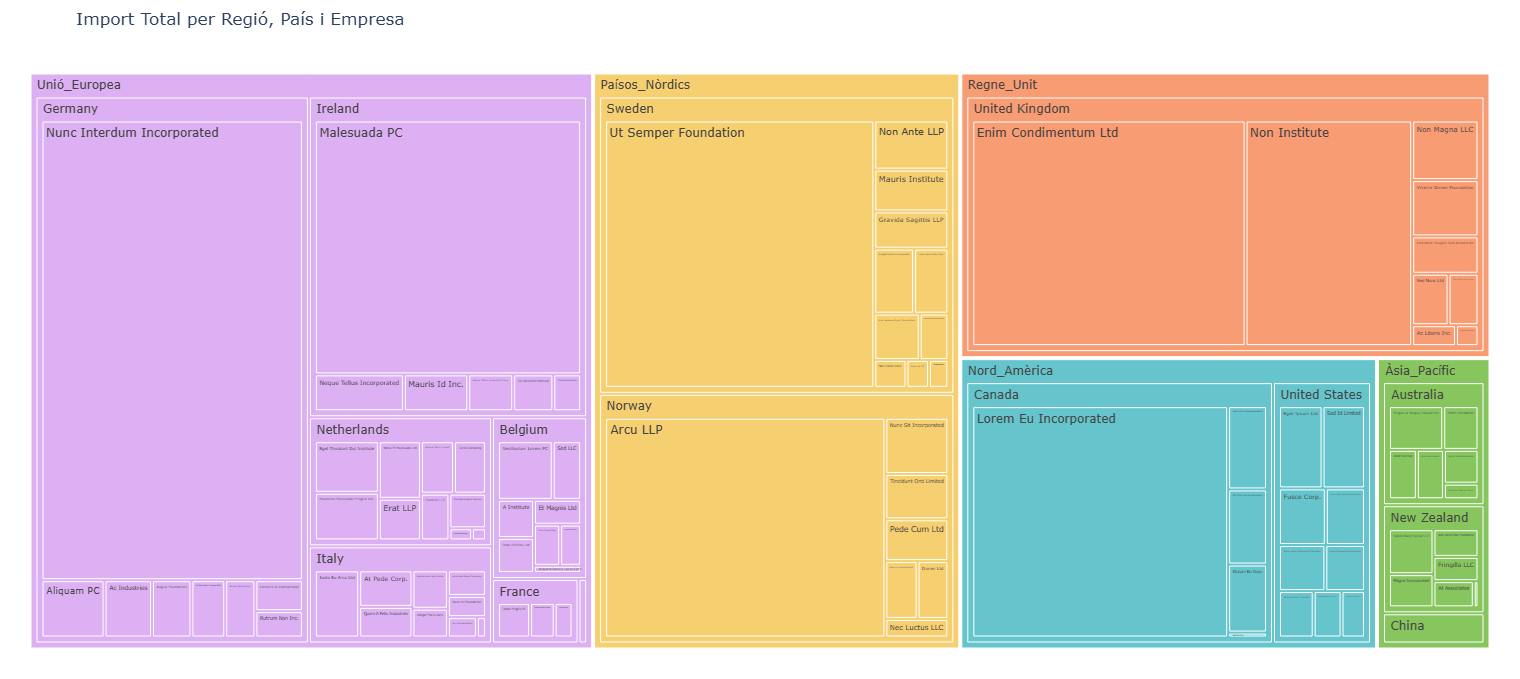

Layout of this report page (visuals, bound fields, positions):
{"tool":"powerbi","page":{"name":"Nivell 1","canvas":[1920,1080],"ordinal":0},"visuals":[{"type":"pythonVisual","fields":{"Values":["transactions_df.amount","transactions_df.id"]},"box":[0,0,508.9,517.9],"z":0},{"type":"pythonVisual","fields":{"Values":["companies_df.regions_comercials Hierarchy.regions_comercials","companies_df.regions_comercials Hierarchy.country","companies_df.company_name","transactions_df.amount","transactions_df.id"]},"box":[510.7,26.8,400,67.9],"z":1000},{"type":"pythonVisual","fields":{"Values":["transactions_df.id","transactions_df.amount","transactions_df.edat"]},"box":[0,517.9,510.7,562.5],"z":2000},{"type":"textbox","box":[508.9,0,847,27.1],"z":3000},{"type":"pythonVisual","fields":{"Values":["transactions_df.amount","transactions_df.id","users_df.country_user"]},"box":[510.7,517.9,705.4,562.5],"z":4000},{"type":"pythonVisual","fields":{"Values":["transactions_df.id","transactions_df.amount","companies_df.country_company","users_df.country_user"]},"box":[910.7,26.8,444.6,66.1],"z":5000},{"type":"pythonVisual","fields":{"Values":["transactions_df.amount","transactions_df.id","companies_df.company_name","products_df.product_name","products_df.id"]},"box":[1355.4,0,566.1,517.9],"z":6000},{"type":"pythonVisual","fields":{"Values":["users_df.country_user","transactions_df.amount","transactions_df.id","products_df.price","products_df.weight"]},"box":[1216.1,517.9,705.4,562.5],"z":7000},{"type":"pythonVisual","fields":{"Values":["transactions_df.amount"]},"box":[510.7,94.6,400,423.2],"z":8000},{"type":"pythonVisual","fields":{"Values":["transactions_df.amount"]},"box":[910.7,94.6,444.6,423.2],"z":9000},{"type":"pythonVisual","fields":{"Values":["users_df.country_user","transactions_df.amount","transactions_df.id","products_df.price","products_df.weight"]},"box":[1214.6,517.5,705.4,562.5],"z":10000}]}

Visuals, with their boxes on the page's 1920x1080 design canvas (x1, y1, x2, y2). These are canvas units, not pixel positions in the 1520x679 screenshot, which may show the page scaled, cropped or inside an application window:
pythonVisual - transactions_df.amount x transactions_df.id: select_region(0, 0, 509, 518)
pythonVisual - companies_df.regions_comercials Hierarchy.regions_comercials x companies_df.regions_comercials Hierarchy.country: select_region(511, 27, 911, 95)
pythonVisual - transactions_df.id x transactions_df.amount: select_region(0, 518, 511, 1080)
textbox: select_region(509, 0, 1356, 27)
pythonVisual - transactions_df.amount x transactions_df.id: select_region(511, 518, 1216, 1080)
pythonVisual - transactions_df.id x transactions_df.amount: select_region(911, 27, 1355, 93)
pythonVisual - transactions_df.amount x transactions_df.id: select_region(1355, 0, 1922, 518)
pythonVisual - users_df.country_user x transactions_df.amount: select_region(1216, 518, 1922, 1080)
pythonVisual - transactions_df.amount: select_region(511, 95, 911, 518)
pythonVisual - transactions_df.amount: select_region(911, 95, 1355, 518)
pythonVisual - users_df.country_user x transactions_df.amount: select_region(1215, 518, 1920, 1080)
